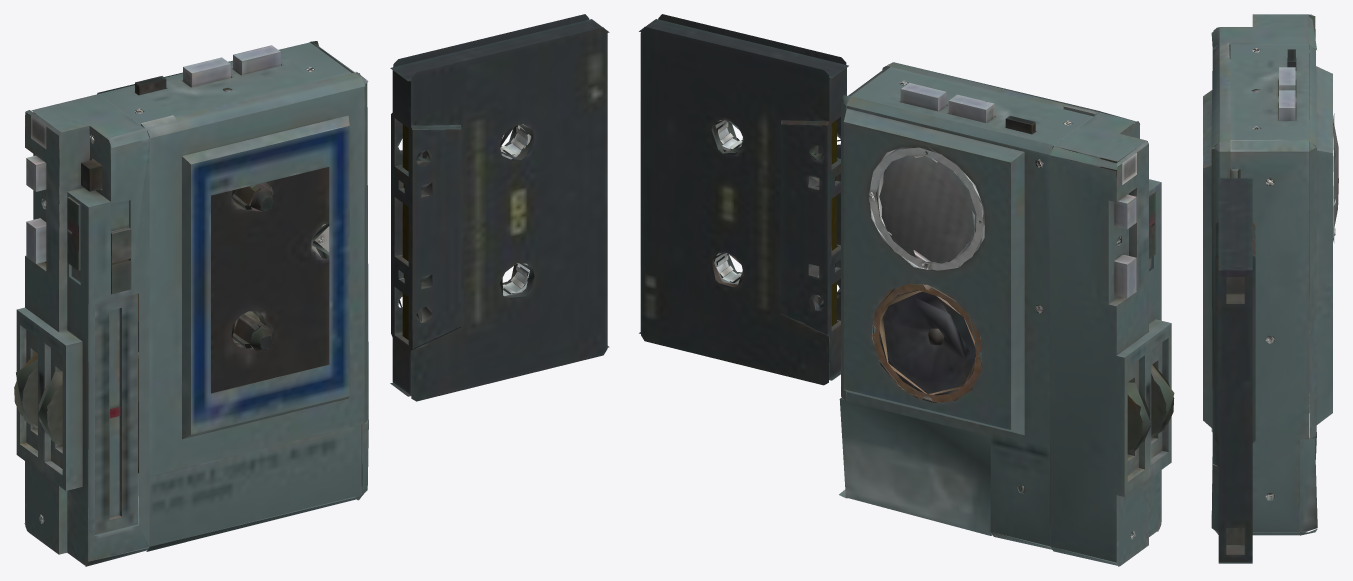
The model's file is cassette_player.glb.
3 views of the same model, side by side, from view 1: azimuth 30°, elevation 25°; view 2: azimuth 150°, elevation 25°; view 3: azimuth 270°, elevation 25° (orthographic). The views are drawn at different scales.
Visible parts, largest first — view 1: portable_cassette_player_lid; view 2: portable_cassette_player_lid; view 3: portable_cassette_player_lid.
Part boxes in pixels (<box>): portable_cassette_player_lid: <box>14,14,609,566</box>; portable_cassette_player_lid: <box>639,14,1174,566</box>; portable_cassette_player_lid: <box>1203,14,1338,563</box>.
Size of the model in its own units: 0.1732 by 0.1309 by 0.0395.
1 material, 1 textured.
